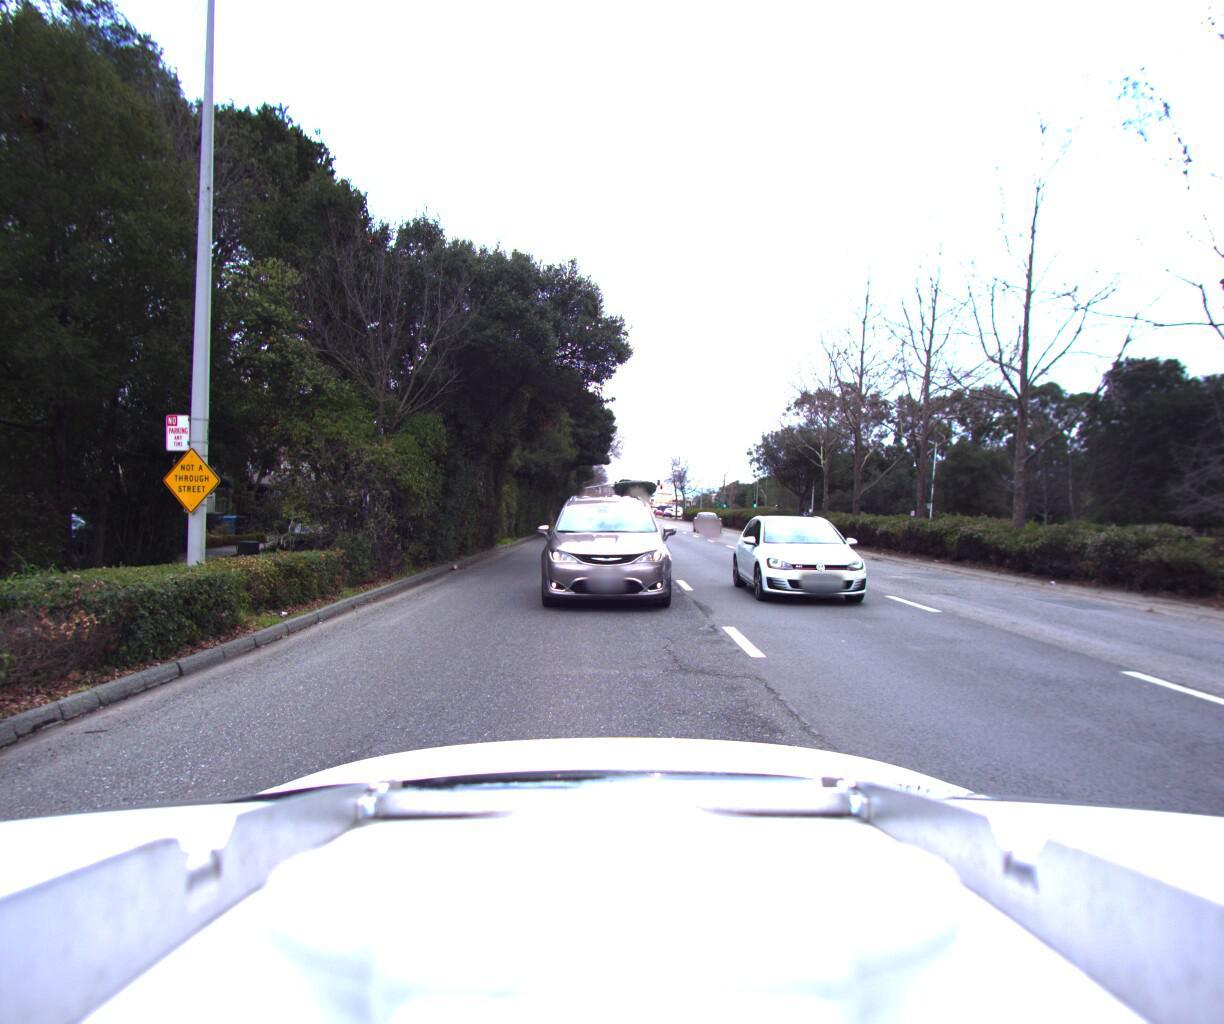car: (733, 498, 914, 619), (534, 482, 670, 615), (773, 503, 858, 557), (694, 508, 723, 530)
